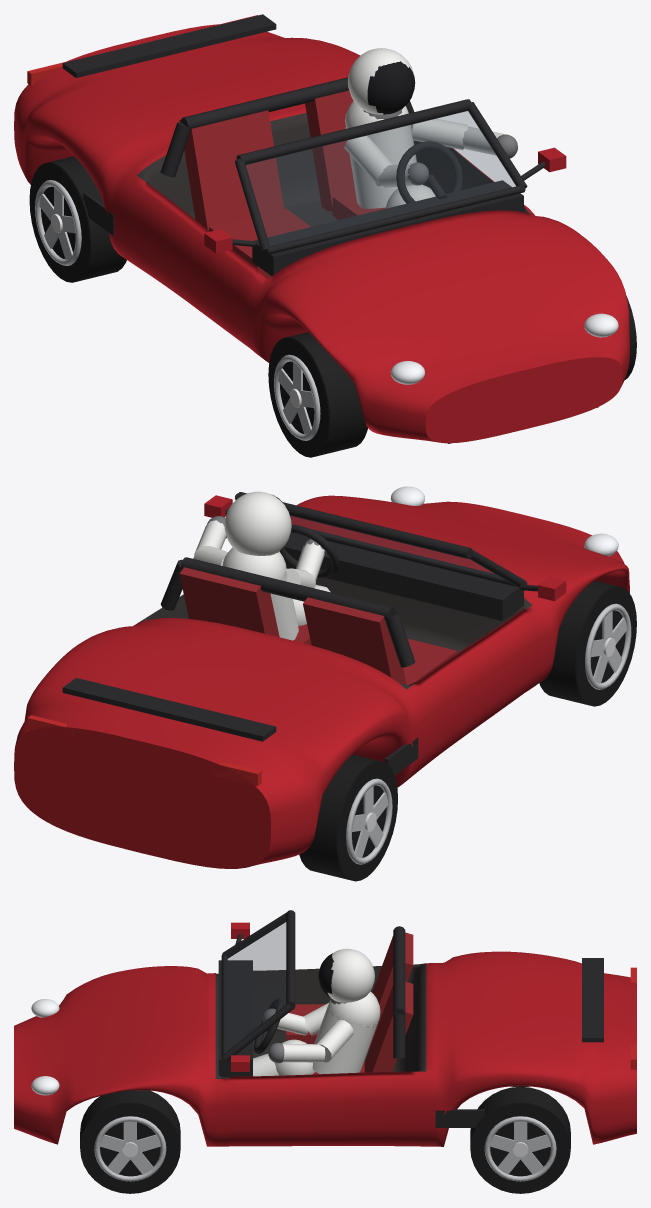
File: Roadster.glb
The picture shows the model from 3 angles, top to bottom: view 1: azimuth 30°, elevation 25°; view 2: azimuth 150°, elevation 25°; view 3: azimuth 270°, elevation 25°; orthographic projection. The views are drawn at different scales.
Visible parts, largest first — view 1: body, wheel_FR, wheel_RR; view 2: body, wheel_RR, wheel_FR; view 3: body, wheel_FL, wheel_RL.
Part boxes in pixels (x1=…): body: x1=14, y1=14, x2=629, y2=443; wheel_FR: x1=268, y1=332, x2=367, y2=457; wheel_RR: x1=29, y1=156, x2=126, y2=282; body: x1=14, y1=486, x2=629, y2=868; wheel_RR: x1=299, y1=754, x2=397, y2=881; wheel_FR: x1=539, y1=580, x2=636, y2=706; body: x1=14, y1=910, x2=636, y2=1146; wheel_FL: x1=80, y1=1090, x2=180, y2=1193; wheel_RL: x1=470, y1=1086, x2=570, y2=1193.
Bounding box in the file's own units: 2.1 × 1.45 × 3.96.
